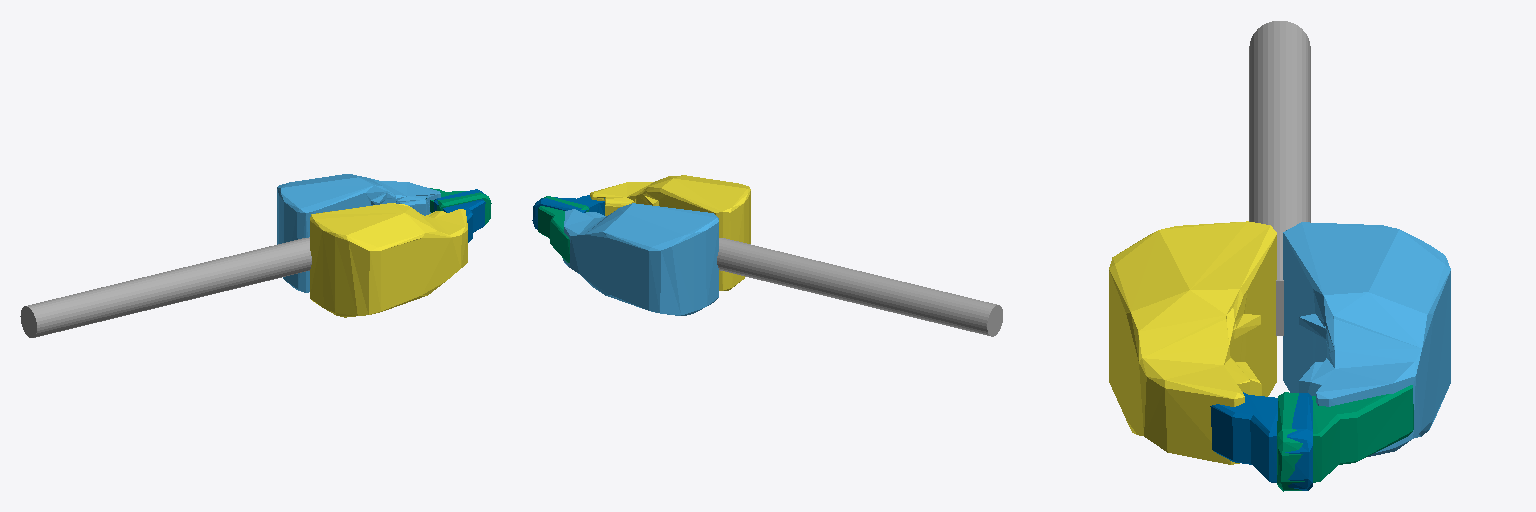
URDF robot description (physics):
<?xml version="1.0"?>
<robot name="physics">
  <link name="gripper_pole">
    <visual>
      <geometry>
        <cylinder length="0.2" radius=".01"/>
      </geometry>
      <origin rpy="0 1.57075 0 " xyz="0.1 0 0"/>
      <material name="Gray">
        <color rgba=".7 .7 .7 1"/>
      </material>
    </visual>
    <collision>
      <geometry>
        <cylinder length="0.2" radius=".01"/>
      </geometry>
      <origin rpy="0 1.57075 0 " xyz="0.1 0 0"/>
    </collision>
    <inertial>
      <mass value="0.05"/>
      <inertia ixx="1.0" ixy="0.0" ixz="0.0" iyy="1.0" iyz="0.0" izz="1.0"/>
    </inertial>
  </link>

  <joint name="left_gripper_joint" type="revolute">
    <axis xyz="0 0 1"/>
    <limit effort="1000.0" lower="0.0" upper="0.548" velocity="0.5"/>
    <origin rpy="0 0 0" xyz="0.2 0.01 0"/>
    <parent link="gripper_pole"/>
    <child link="left_gripper"/>
  </joint>

  <link name="left_gripper">
    <contact>
      <lateral_friction value="50.0"/>
    </contact>
    <visual>
      <origin rpy="0.0 0 0" xyz="0 0 0"/>
      <geometry>
        <mesh filename="l_finger.stl"/>
      </geometry>
    </visual>
    <collision>
      <geometry>
        <mesh filename="l_finger.stl"/>
      </geometry>
      <origin rpy="0.0 0 0" xyz="0 0 0"/>
    </collision>
    <inertial>
      <mass value="0.05"/>
      <inertia ixx="1.0" ixy="0.0" ixz="0.0" iyy="1.0" iyz="0.0" izz="1.0"/>
    </inertial>
  </link>

  <joint name="left_tip_joint" type="fixed">
    <parent link="left_gripper"/>
    <child link="left_tip"/>
  </joint>

  <link name="left_tip">
    <contact>
      <lateral_friction value="50.0"/>
    </contact>
    <visual>
      <origin rpy="0.0 0 0" xyz="0.09137 0.00495 0"/>
      <geometry>
        <mesh filename="l_finger_tip.stl"/>
      </geometry>
    </visual>
    <collision>
      <geometry>
        <box size=".03 .03 .02"/>
      </geometry>
      <origin rpy="0.0 0 0" xyz="0.109137 0.00495 0"/>
    </collision>
    <inertial>
      <mass value="0.05"/>
      <inertia ixx="1.0" ixy="0.0" ixz="0.0" iyy="1.0" iyz="0.0" izz="1.0"/>
    </inertial>
  </link>

  <joint name="right_gripper_joint" type="revolute">
    <axis xyz="0 0 -1"/>
    <limit effort="1000.0" lower="0.0" upper="0.548" velocity="0.5"/>
    <origin rpy="0 0 0" xyz="0.2 -0.01 0"/>
    <parent link="gripper_pole"/>
    <child link="right_gripper"/>
  </joint>

  <link name="right_gripper">
    <contact>
      <lateral_friction value="50.0"/>
    </contact>
    <visual>
      <origin rpy="-3.1415 0 0" xyz="0 0 0"/>
      <geometry>
        <mesh filename="l_finger.stl"/>
      </geometry>
    </visual>
    <collision>
      <geometry>
        <mesh filename="l_finger.stl"/>
      </geometry>
      <origin rpy="-3.1415 0 0" xyz="0 0 0"/>
    </collision>
    <inertial>
      <mass value="0.05"/>
      <inertia ixx="1.0" ixy="0.0" ixz="0.0" iyy="1.0" iyz="0.0" izz="1.0"/>
    </inertial>
  </link>

  <joint name="right_tip_joint" type="fixed">
    <parent link="right_gripper"/>
    <child link="right_tip"/>
  </joint>

  <link name="right_tip">
    <contact>
      <lateral_friction value="50.0"/>
    </contact>
    <visual>
      <origin rpy="-3.1415 0 0" xyz="0.09137 0.00495 0"/>
      <geometry>
        <mesh filename="l_finger_tip.stl"/>
      </geometry>
    </visual>
    <collision>
      <geometry>
        <box size=".03 .03 .02"/>
      </geometry>
      <origin rpy="-3.1415 0 0" xyz="0.109137 0.00495 0"/>
    </collision>
    <inertial>
      <mass value="0.05"/>
      <inertia ixx="1.0" ixy="0.0" ixz="0.0" iyy="1.0" iyz="0.0" izz="1.0"/>
    </inertial>
  </link>
</robot>

--- Render facts (derived) ---
The picture shows the robot from 3 angles, left to right: view 1: azimuth 30°, elevation 25°; view 2: azimuth 150°, elevation 25°; view 3: azimuth 270°, elevation 25°; orthographic projection.
Robot: physics — 5 links, 4 joints (2 revolute, 2 fixed); root link gripper_pole; default pose: all joints at 0.
Links seen in each view (by area): view 1: right_gripper, gripper_pole, left_gripper, right_tip, left_tip; view 2: left_gripper, gripper_pole, right_gripper, left_tip, right_tip; view 3: right_gripper, left_gripper, gripper_pole, left_tip, right_tip.
Boxes of the visible links, bbox=[...] form: right_gripper: bbox=[310, 203, 467, 317]; gripper_pole: bbox=[20, 237, 311, 337]; left_gripper: bbox=[277, 174, 440, 292]; right_tip: bbox=[434, 189, 485, 242]; left_tip: bbox=[426, 188, 491, 224]; left_gripper: bbox=[563, 203, 718, 315]; gripper_pole: bbox=[717, 238, 1002, 336]; right_gripper: bbox=[590, 175, 750, 290]; left_tip: bbox=[538, 196, 589, 262]; right_tip: bbox=[532, 195, 604, 229]; right_gripper: bbox=[1109, 221, 1276, 464]; left_gripper: bbox=[1283, 222, 1450, 456]; gripper_pole: bbox=[1249, 21, 1310, 335]; left_tip: bbox=[1277, 385, 1413, 491]; right_tip: bbox=[1210, 392, 1312, 490].
Size in the robot's own frame: 0.3224 by 0.1112 by 0.0554 metres.
4 mesh visuals loaded from 2 distinct referenced files (2 binary STL).